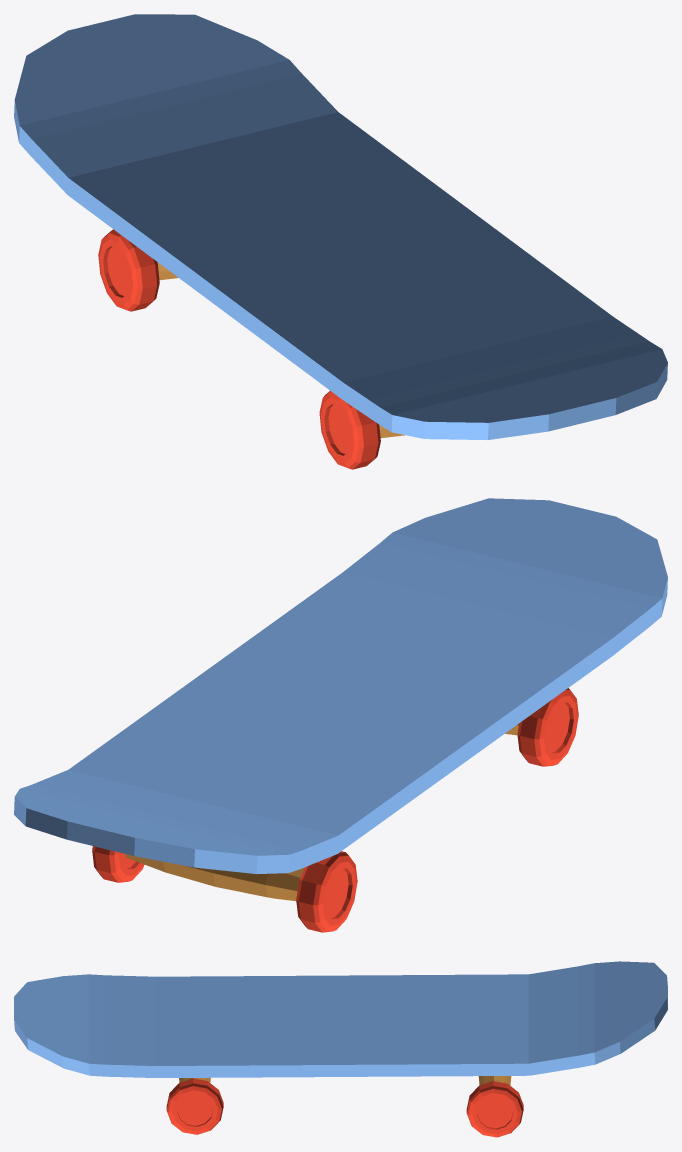
File: Skateboard.fbx
3 renders of one model, top to bottom at view 1: azimuth 30°, elevation 25°; view 2: azimuth 150°, elevation 25°; view 3: azimuth 270°, elevation 25°, orthographic. The views are drawn at different scales.
Parts seen in each view (by area): view 1: Node 0; view 2: Node 0; view 3: Node 0.
Part boxes in pixels (x1,y1,x2,y2): Node 0: [14, 14, 667, 469]; Node 0: [14, 498, 667, 932]; Node 0: [14, 961, 667, 1137].
Bounding box in the file's own units: 0.7246 × 0.1391 × 0.2343.
